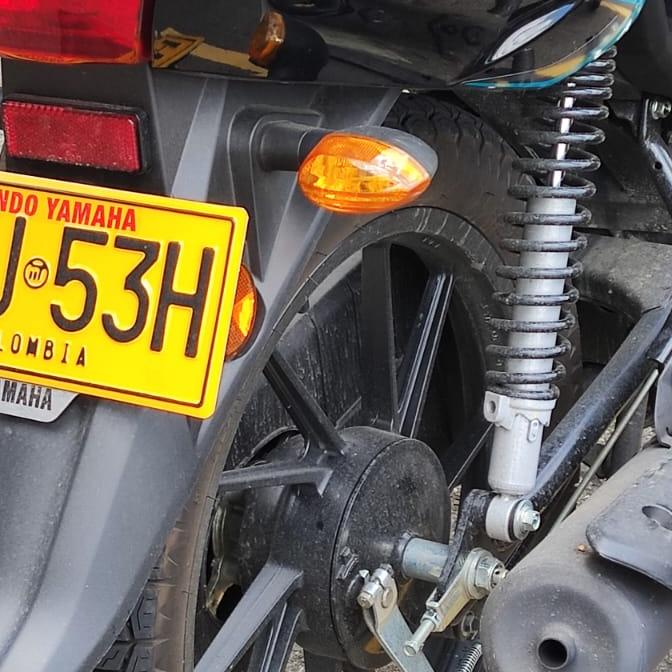plates: (0, 175, 253, 419)
